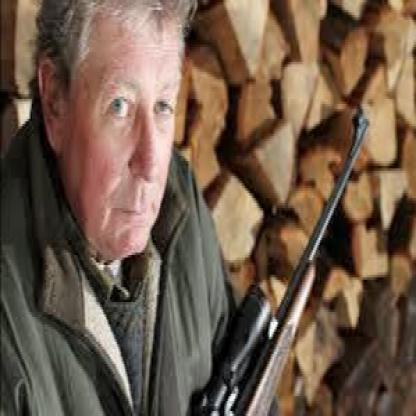rifle: (188, 109, 377, 416)
